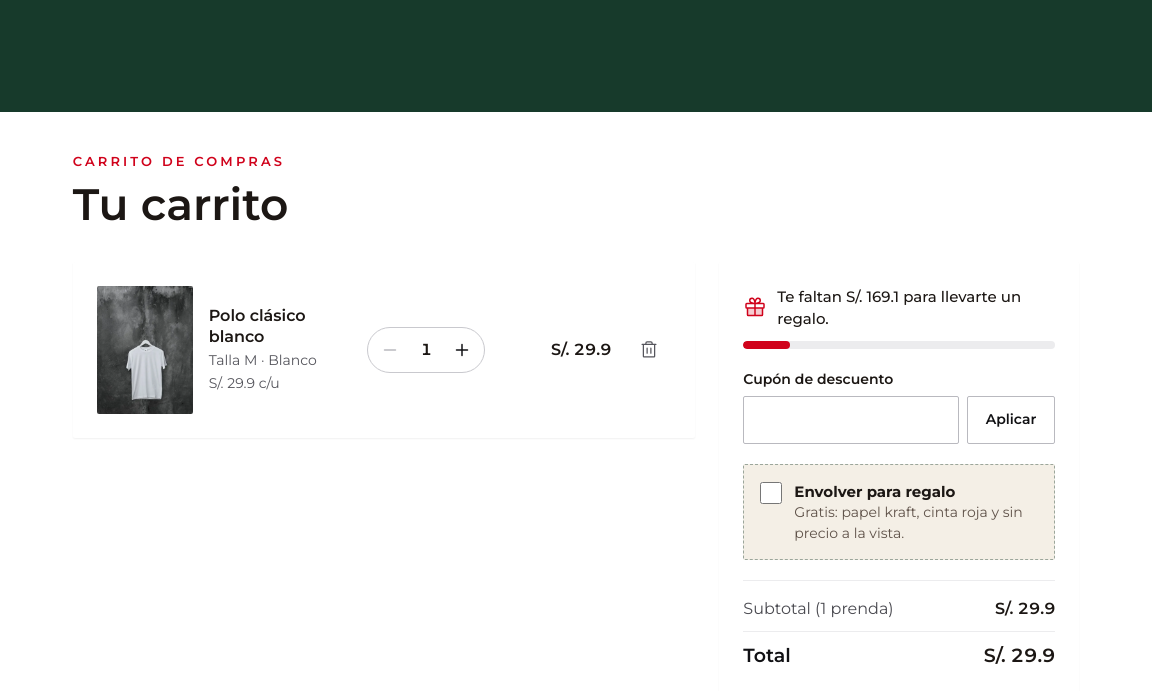
CarritoPage › cambia cantidades dentro de los límites y recalcula el total
// En el límite no hace nada, pero conserva el foco (aria-disabled en vez de disabled).
Step 1. Click the button named "Quitar una unidad" → coordinates (390, 350), box [368,328,412,372]
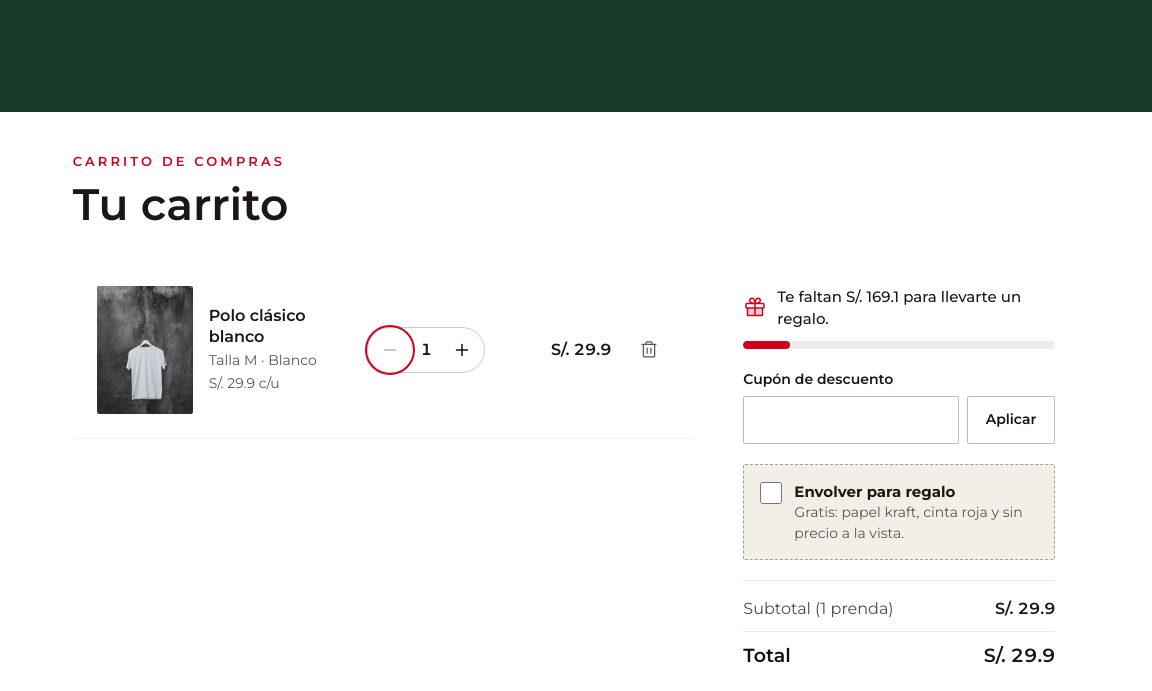
Expected: the text "1" is shown, [421,340,432,359]
Step 2. Click the button named "Agregar una unidad" → coordinates (462, 350), box [440,328,484,372]
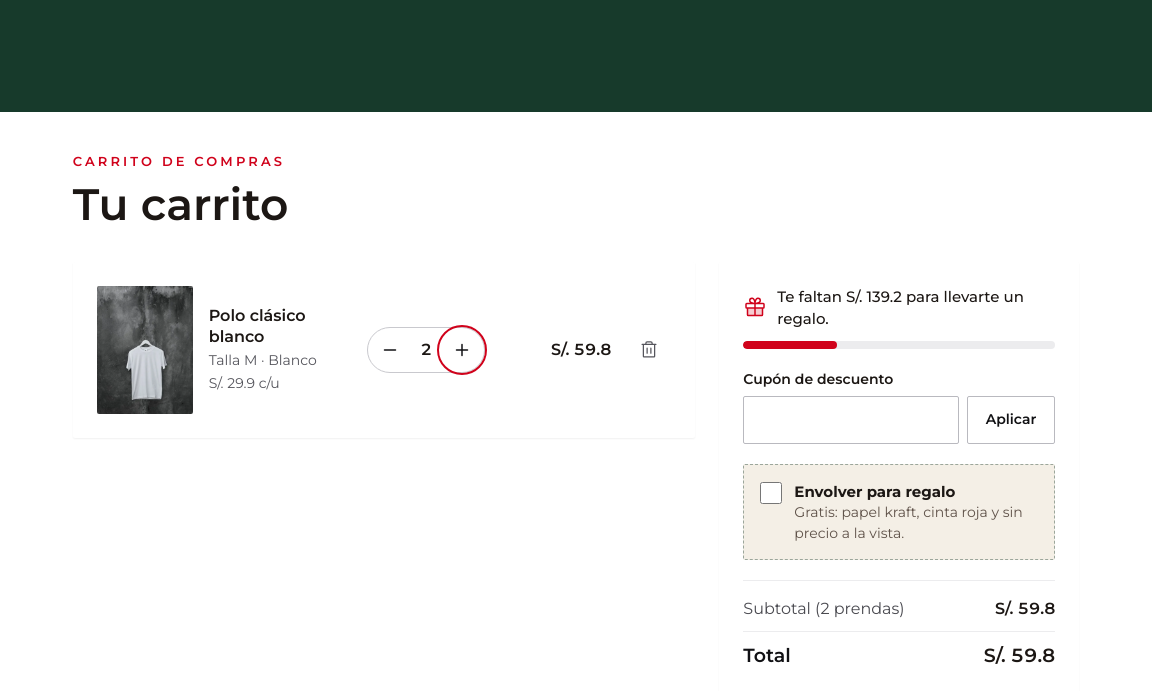
Expected: the text "S/. 59.8" is shown 2 times, [995,597,1055,621]; [984,642,1055,671]
Expected: the text "2" is shown, [421,340,432,359]
Expected: the text "Subtotal (2 prendas)" is shown, [743,597,905,621]
